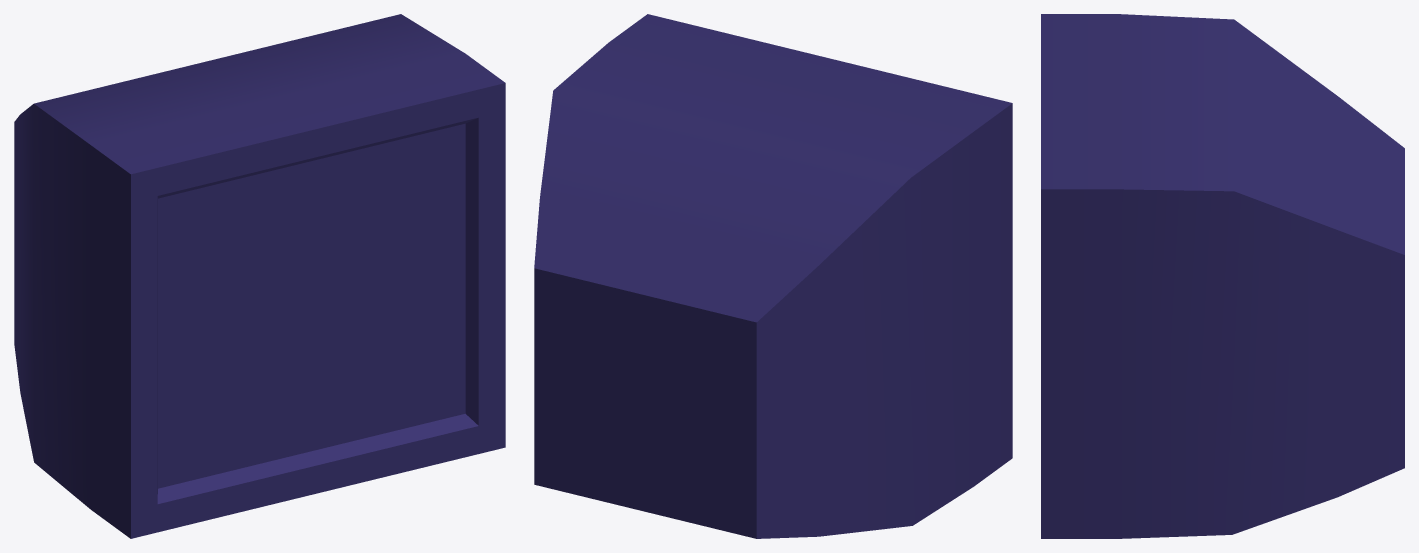
3 views of the same model, side by side, from view 1: azimuth 30°, elevation 25°; view 2: azimuth 150°, elevation 25°; view 3: azimuth 270°, elevation 25° (orthographic). The views are drawn at different scales.
Parts seen in each view (by area): view 1: TV; view 2: TV; view 3: TV.
Boxes of the visible parts, <box> form: TV: <box>14,14,505,538</box>; TV: <box>534,14,1012,538</box>; TV: <box>1041,14,1404,538</box>.
Bounding box in the file's own units: 17.88 × 16.62 × 15.67.
